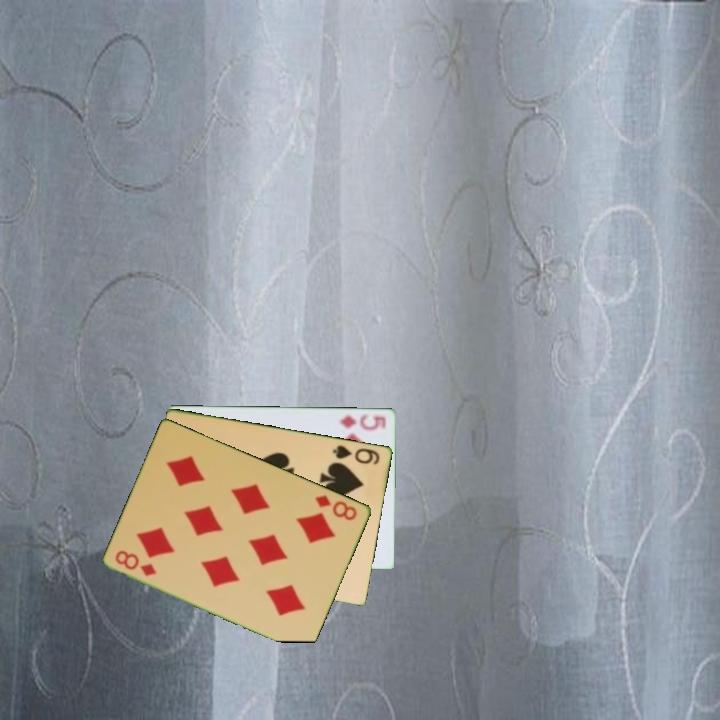5d: (337, 411, 389, 432)
6s: (329, 441, 383, 467)
8d: (112, 546, 160, 579), (312, 491, 360, 523)
